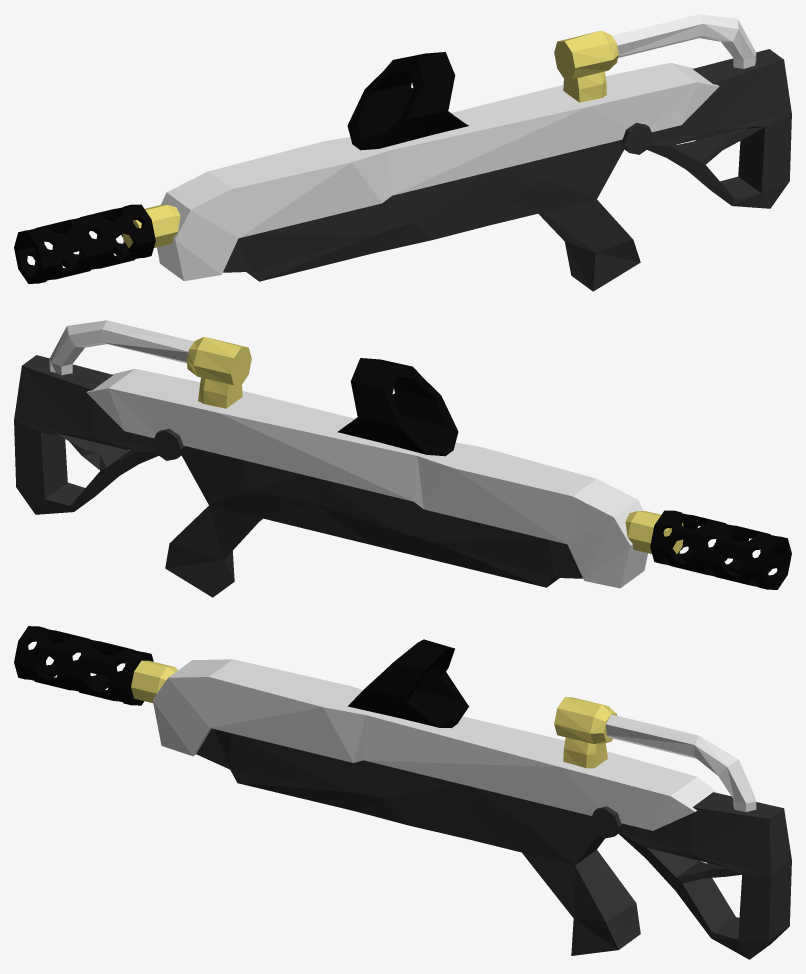
The model's file is flamethrower.fbx.
The picture shows the model from 3 angles, top to bottom: view 1: azimuth 30°, elevation 25°; view 2: azimuth 150°, elevation 25°; view 3: azimuth 330°, elevation 25°; orthographic projection.
Visible parts, largest first — view 1: Cube.001, Cube, Cube.002, Cylinder.001, Cylinder.005, Torus, Cylinder.003, Cylinder.004, Cylinder.006, Cylinder; view 2: Cube.001, Cube, Cube.002, Cylinder.001, Cylinder.005, Torus, Cylinder.003, Cylinder.004, Cylinder.006, Cylinder; view 3: Cube.001, Cube, Cube.002, Cylinder.005, Cylinder.001, Torus, Cylinder.003, Cylinder.004, Cylinder.006, Cylinder.
Boxes of the visible parts, x1,y1,x2,y2 form: Cube.001: [157, 62, 719, 281]; Cube: [223, 140, 640, 291]; Cube.002: [647, 49, 791, 208]; Cylinder.001: [347, 52, 468, 150]; Cylinder.005: [14, 204, 155, 283]; Torus: [612, 14, 756, 68]; Cylinder.003: [554, 30, 618, 79]; Cylinder.004: [122, 205, 180, 248]; Cylinder.006: [563, 71, 606, 102]; Cylinder: [619, 123, 653, 154]; Cube.001: [86, 368, 647, 588]; Cube: [165, 446, 582, 597]; Cube.002: [14, 355, 158, 514]; Cylinder.001: [337, 358, 458, 456]; Cylinder.005: [650, 510, 791, 589]; Torus: [49, 320, 193, 375]; Cylinder.003: [187, 336, 251, 385]; Cylinder.004: [625, 511, 683, 554]; Cylinder.006: [198, 377, 242, 408]; Cylinder: [152, 429, 186, 460]; Cube.001: [152, 659, 717, 830]; Cube: [196, 728, 640, 955]; Cube.002: [618, 792, 791, 959]; Cylinder.005: [14, 626, 153, 705]; Cylinder.001: [348, 639, 469, 728]; Torus: [605, 714, 756, 811]; Cylinder.003: [554, 697, 617, 744]; Cylinder.004: [131, 660, 177, 702]; Cylinder.006: [563, 737, 607, 768]; Cylinder: [590, 806, 624, 838].
Bounding box in the file's own units: 330 × 111 × 32.
